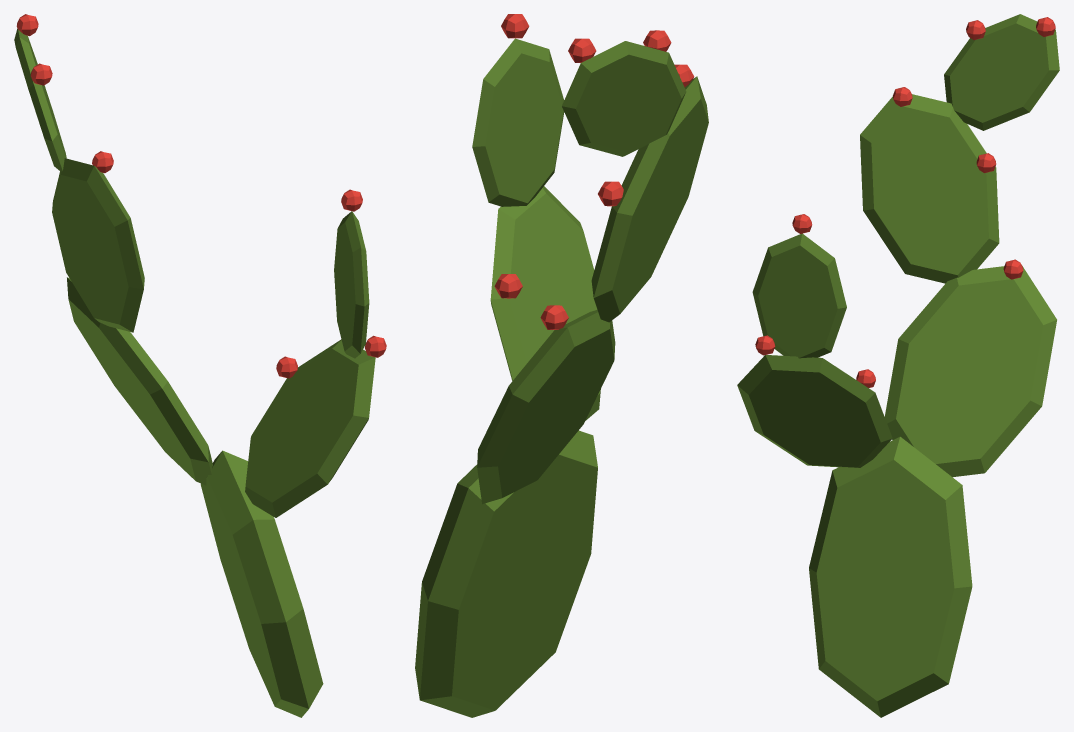
File: Cactus_6.fbx
3 renders of one model, left to right at view 1: azimuth 30°, elevation 25°; view 2: azimuth 150°, elevation 25°; view 3: azimuth 270°, elevation 25°, orthographic. The views are drawn at different scales.
Visible parts, largest first — view 1: Cactus_6; view 2: Cactus_6; view 3: Cactus_6.
Part boxes in pixels (box(x1,y1,x2,y2)): Cactus_6: box(14, 14, 386, 717); Cactus_6: box(415, 14, 708, 717); Cactus_6: box(737, 14, 1059, 717).
Size of the model in its own units: 75.51 by 96.51 by 204.
